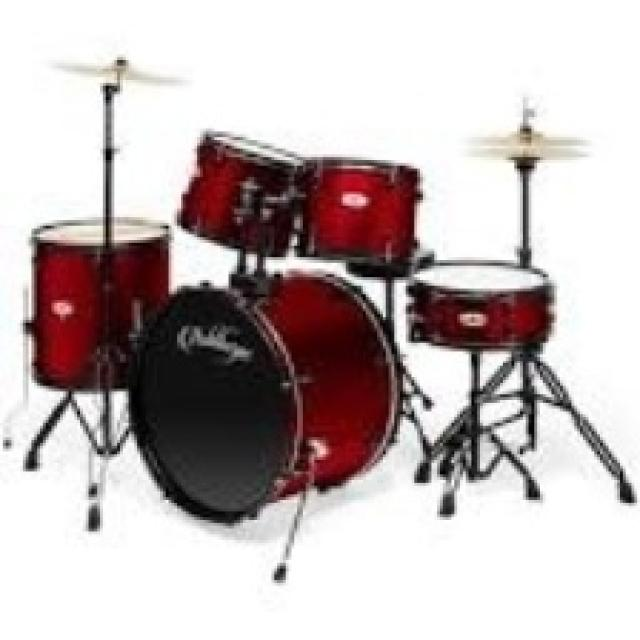drums: (0, 48, 640, 590)
